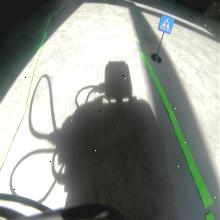crosswalk: (157, 12, 175, 35)
